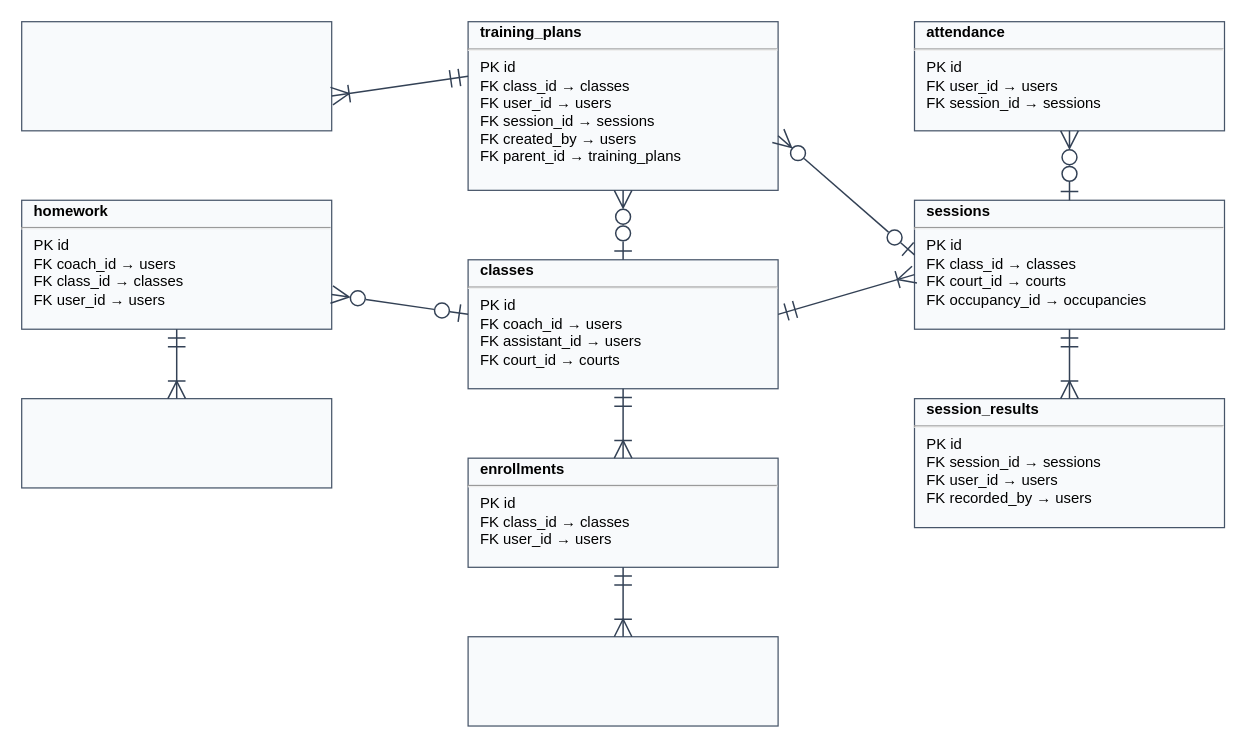
The diagram is 1246 pixels wide and 748 high, and some of its shapes have lost their labels. Here are the shapes that lost their labels. From the top down, the box of each, then its label:
(20, 20, 332, 131): training_plan_versions PK id FK plan_id → training_plans FK edited_by → users
(20, 397, 332, 488): homework_recipients PK, FK homework_id → homework PK, FK user_id → users
(467, 636, 778, 726): waitlist_offers PK id FK enrollment_id → enrollments
